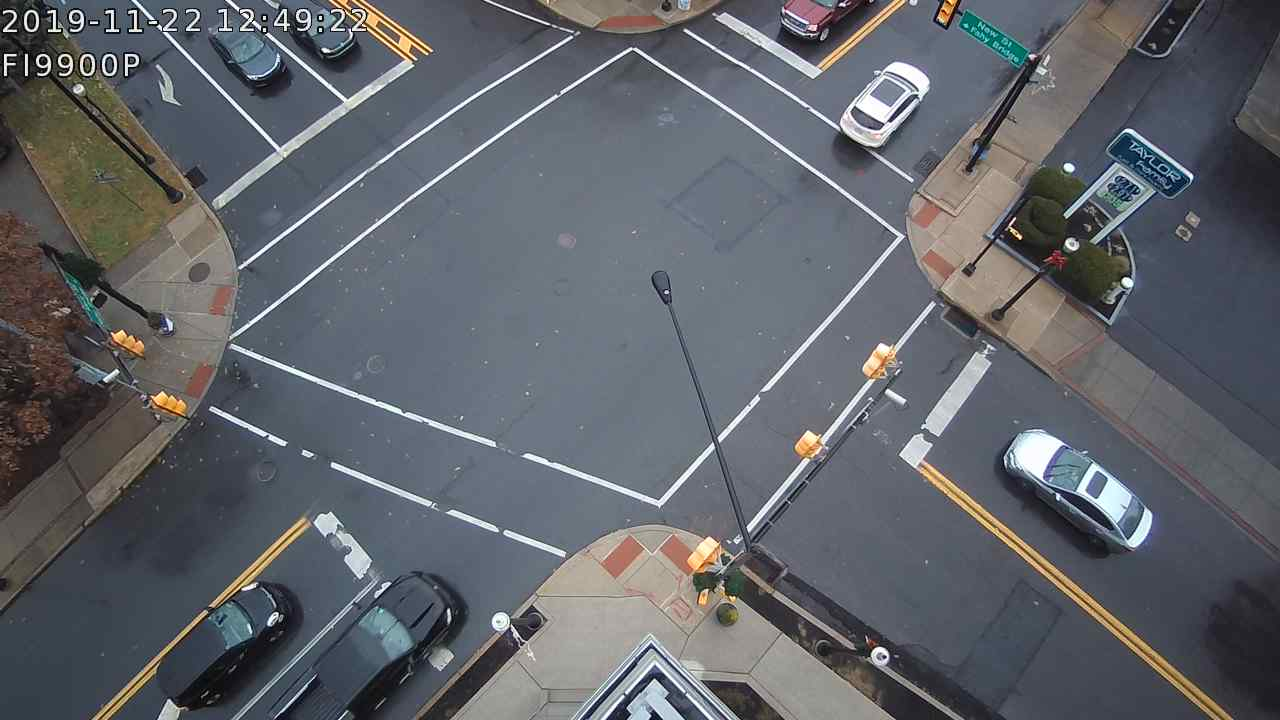car: (284, 570, 462, 720), (998, 420, 1157, 552), (161, 581, 290, 705), (841, 57, 931, 157), (210, 15, 290, 97), (285, 1, 359, 64), (773, 1, 866, 47)
